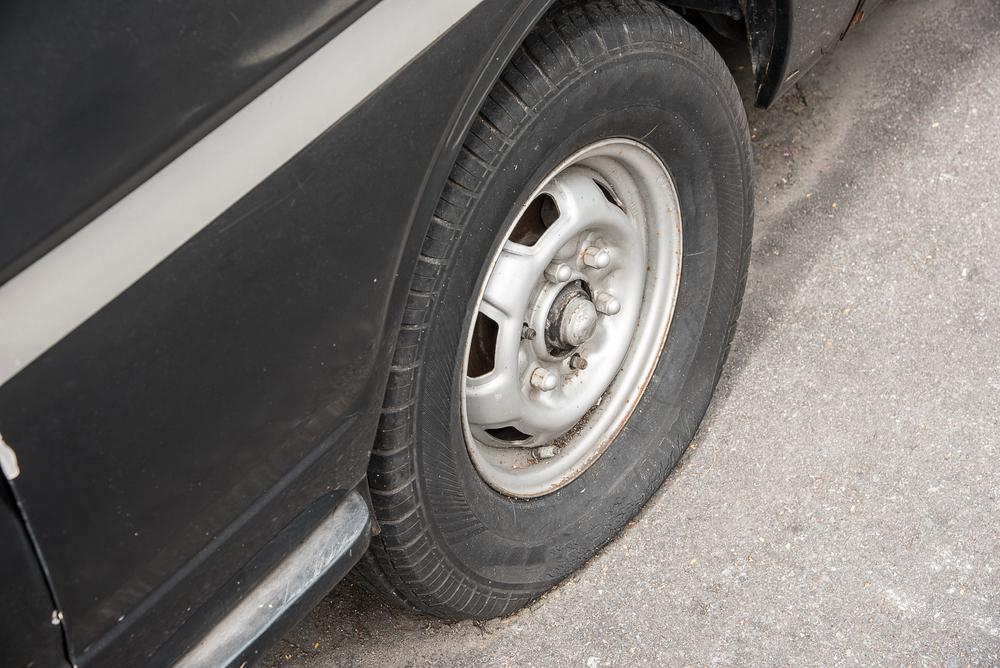tire flat: (356, 0, 758, 619)
